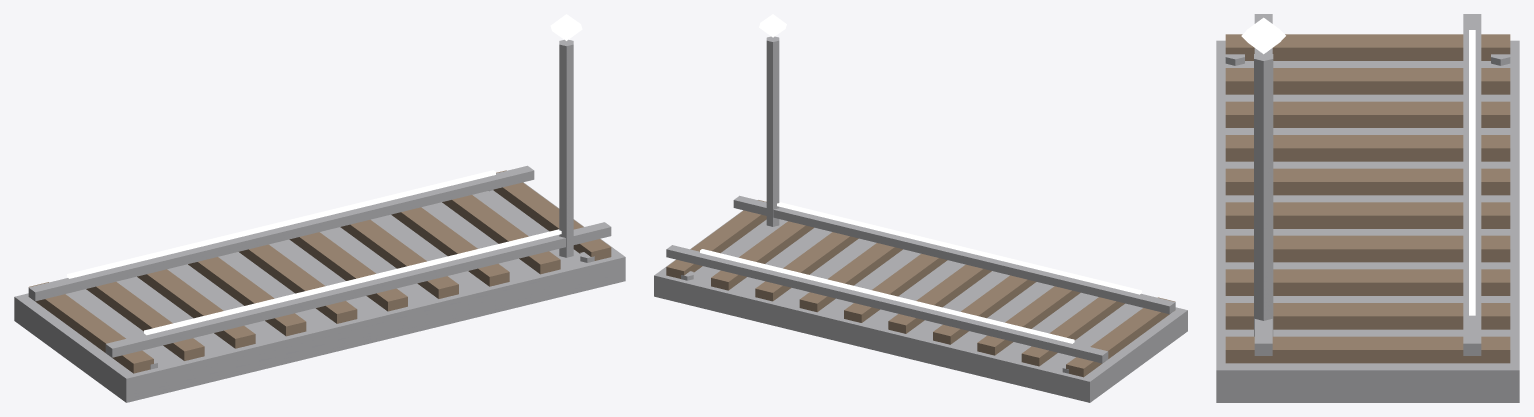
File: rail_track_legendary.glb
3 renders of one model, left to right at view 1: azimuth 30°, elevation 25°; view 2: azimuth 150°, elevation 25°; view 3: azimuth 270°, elevation 25°, orthographic. The views are drawn at different scales.
Parts seen in each view (by area): view 1: rail_track; view 2: rail_track; view 3: rail_track.
Boxes of the visible parts, x1,y1,x2,y2 form: rail_track: [14, 14, 625, 402]; rail_track: [654, 14, 1187, 402]; rail_track: [1216, 14, 1519, 402].
Size of the model in its own units: 3.46 by 1.75 by 1.34.
